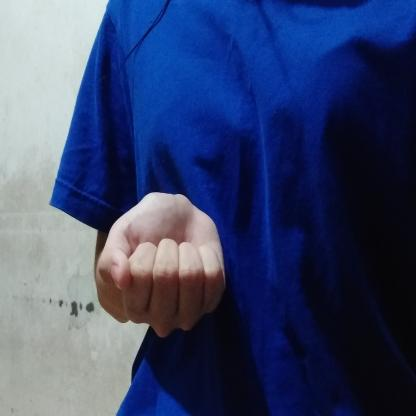where: (87, 186, 239, 344)
